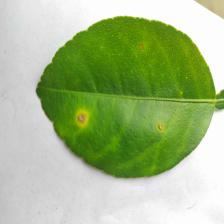canker: (70, 34, 184, 151)
